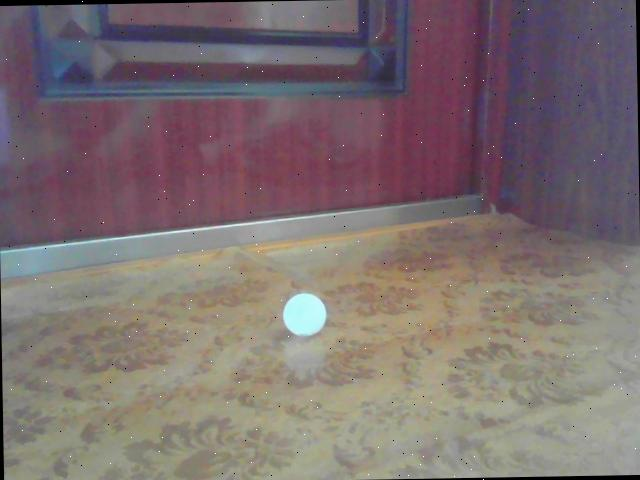ball: (284, 293, 326, 335)
